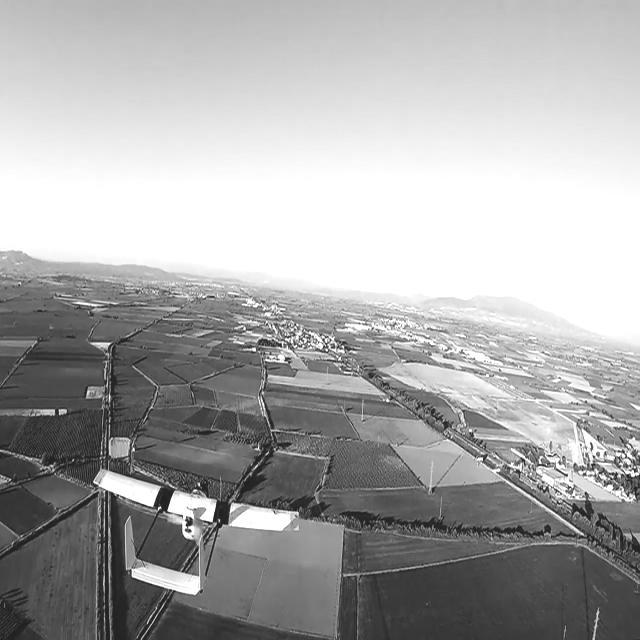iha: (85, 465, 307, 597)
